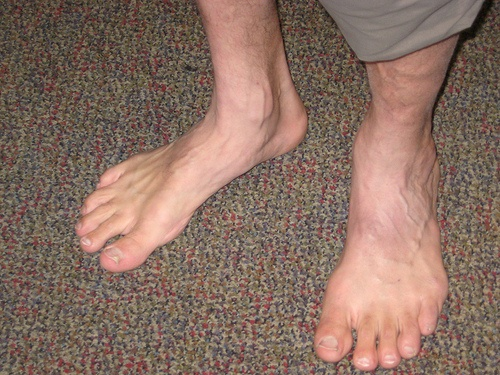feet: (41, 48, 316, 277), (315, 103, 452, 371)
